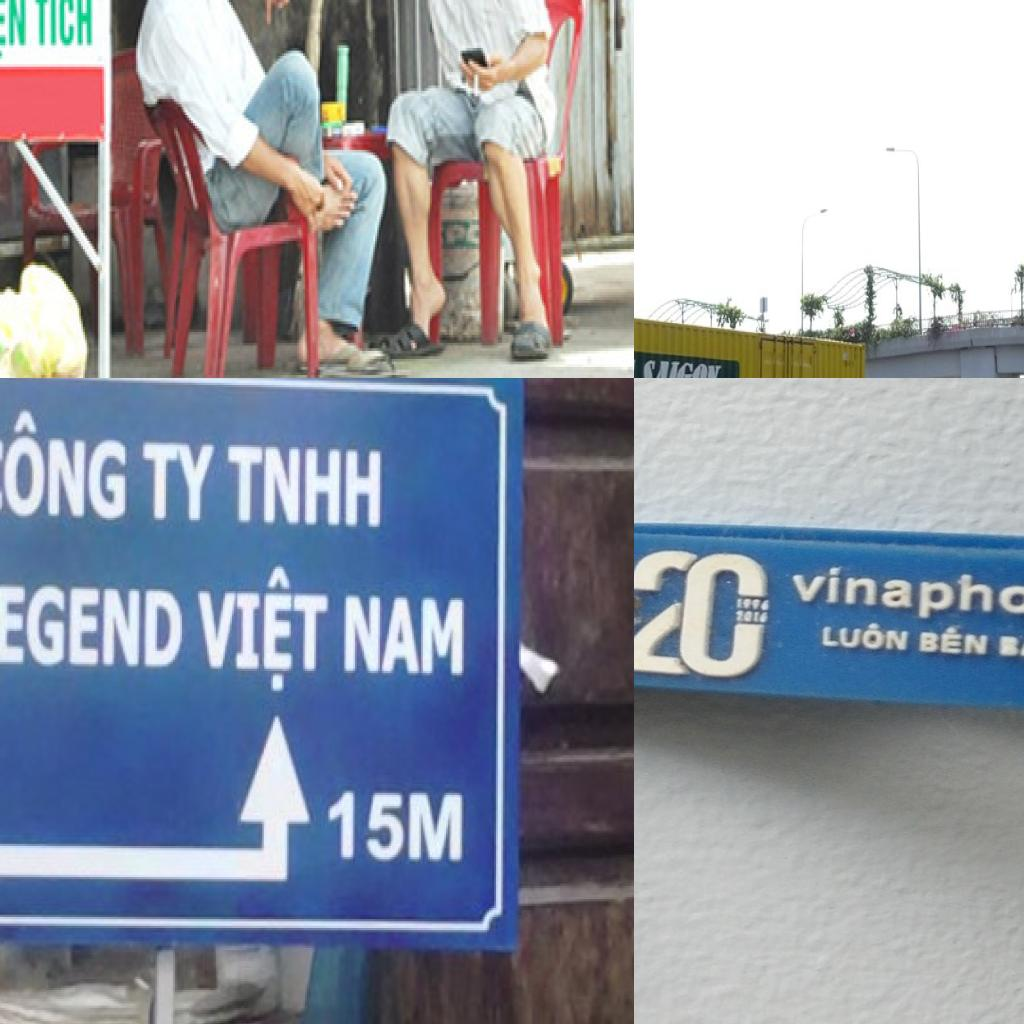text: (191, 562, 335, 698), (634, 547, 774, 683), (0, 575, 189, 675), (0, 398, 132, 526), (786, 565, 1024, 629), (223, 442, 387, 534), (338, 589, 468, 682), (139, 436, 221, 527), (33, 0, 94, 50), (822, 620, 912, 652), (919, 623, 991, 660), (637, 354, 723, 378), (0, 0, 27, 61), (996, 634, 1024, 666), (734, 598, 771, 612)
